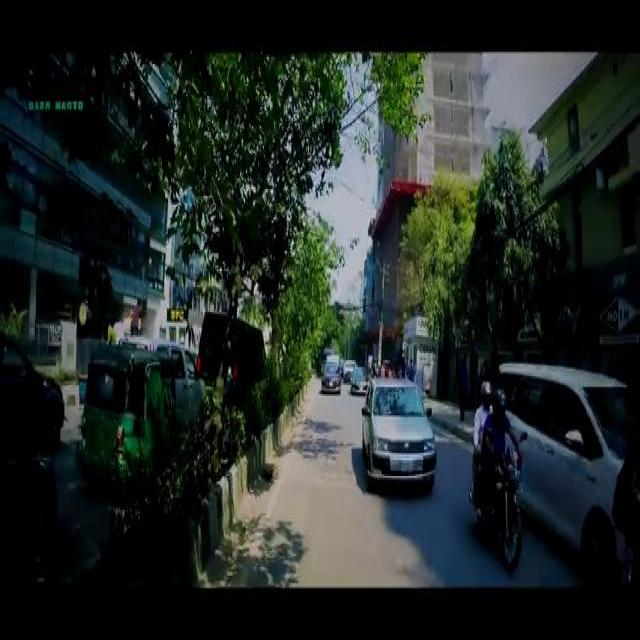car: (360, 375, 436, 486), (320, 358, 340, 389), (348, 363, 366, 391)
minivan: (496, 358, 634, 570), (124, 334, 206, 424)
motorbike: (468, 437, 522, 565)
three wheelers -CNG-: (76, 345, 176, 488)
van: (196, 308, 266, 399)
